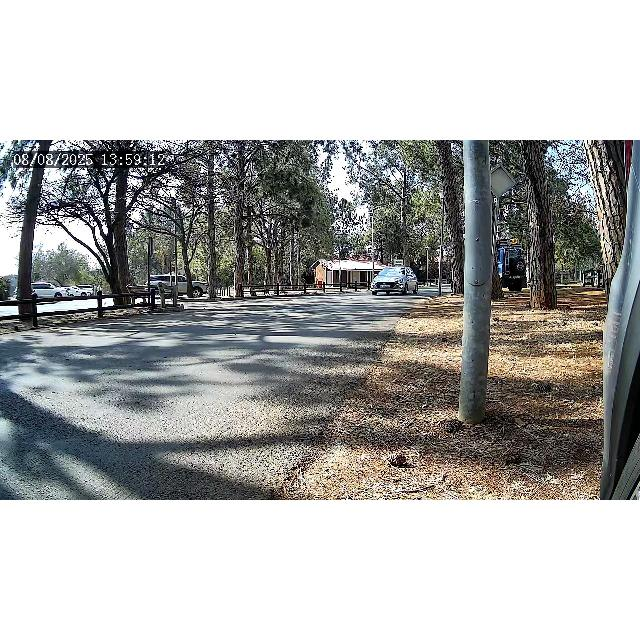car: (145, 272, 211, 298), (371, 266, 419, 296)
plate: (380, 285, 390, 289)
